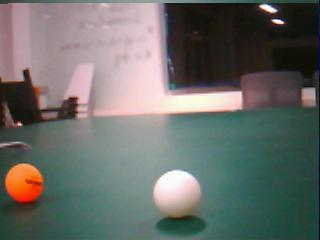oball: (6, 162, 43, 203)
